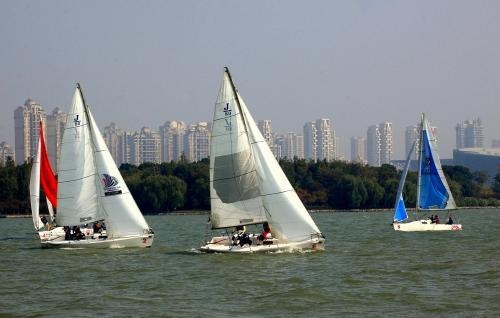fanchuan: (192, 66, 329, 257), (29, 78, 154, 251), (390, 111, 467, 234)
